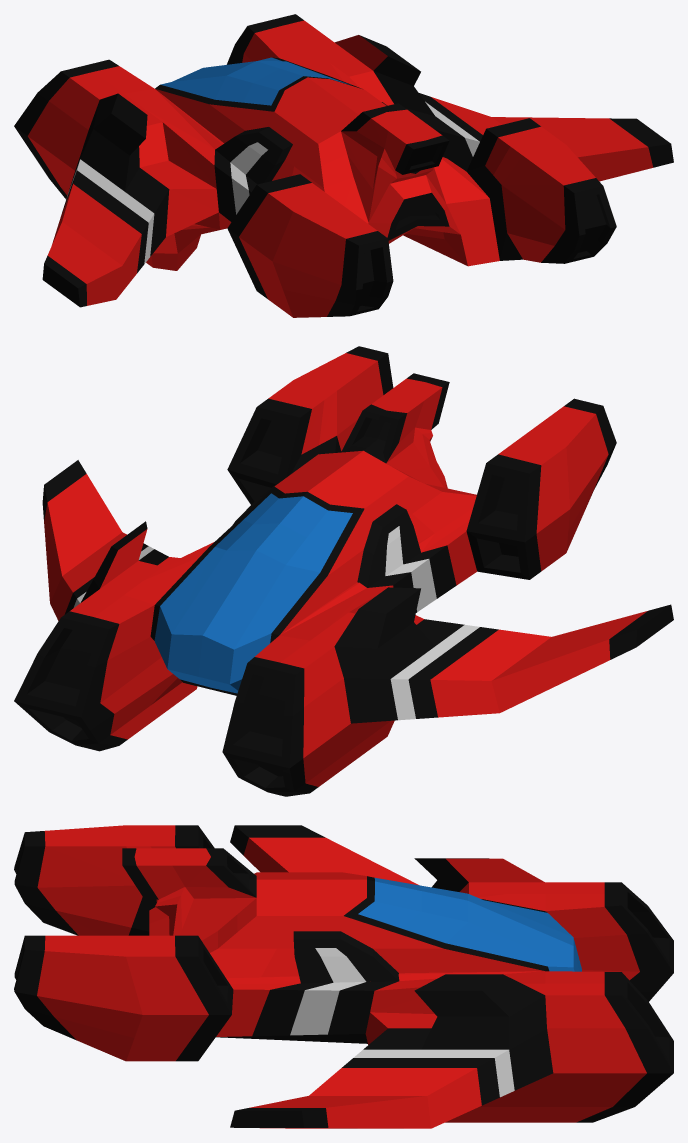
Rendered from nave2.obj.
3 renders of one model, top to bottom at view 1: azimuth 30°, elevation 25°; view 2: azimuth 150°, elevation 25°; view 3: azimuth 270°, elevation 25°, orthographic.
Visible parts, largest first — view 1: Starship_Collectiont; view 2: Starship_Collectiont; view 3: Starship_Collectiont.
Part boxes in pixels (box(x1,y1,x2,y2)): Starship_Collectiont: box(14, 14, 673, 317); Starship_Collectiont: box(14, 346, 673, 796); Starship_Collectiont: box(14, 825, 673, 1128).
Bounding box in the file's own units: 139 × 49.4 × 135.
